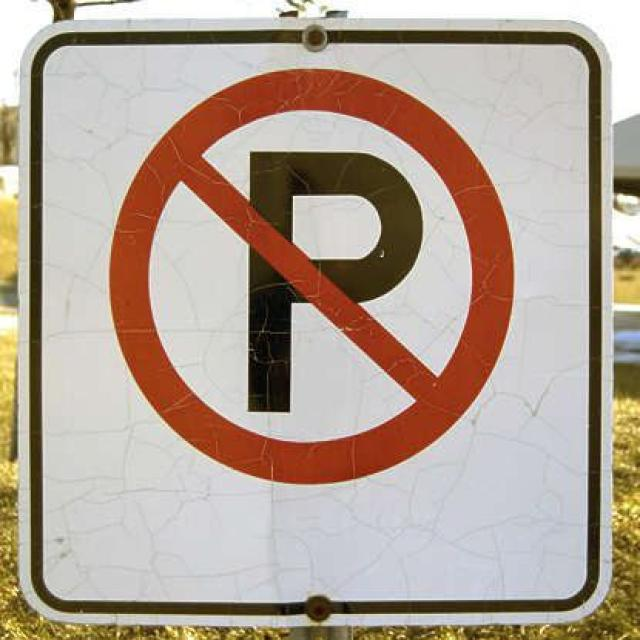No_parking: (117, 69, 514, 486)
